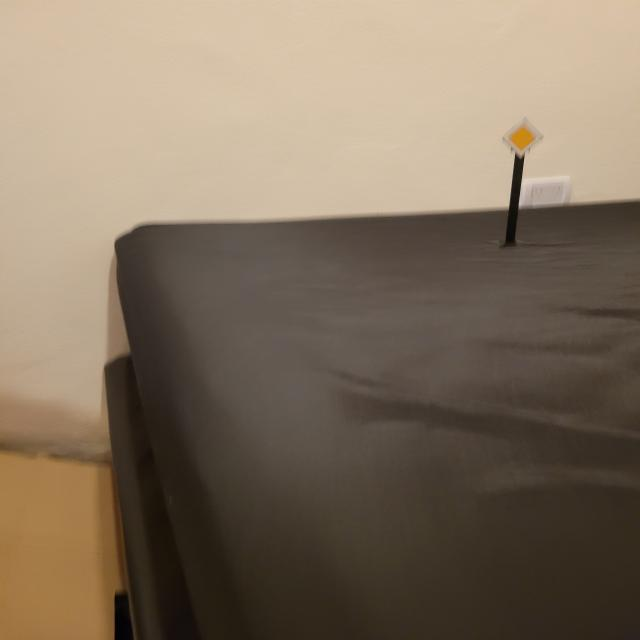priority: (501, 116, 544, 156)
